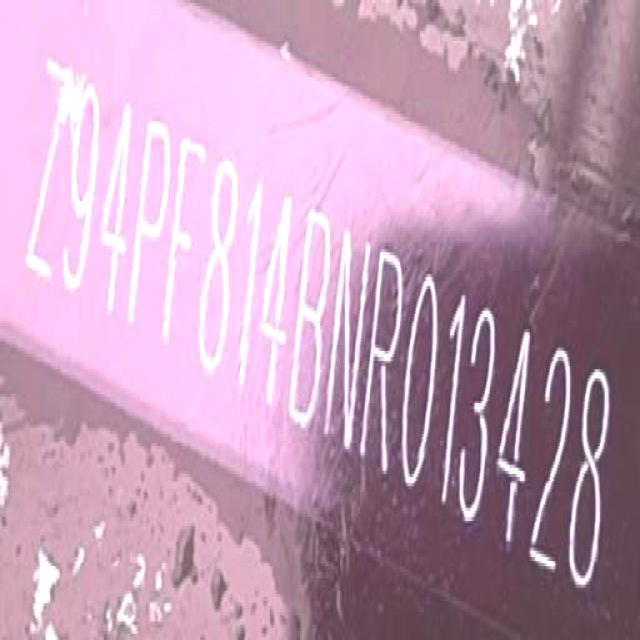0: (394, 259, 447, 508)
1: (432, 281, 471, 517), (230, 166, 266, 398)
2: (523, 332, 581, 583)
3: (450, 291, 508, 536)
4: (485, 317, 541, 565), (247, 182, 300, 423), (90, 89, 142, 334)
8: (561, 354, 617, 607), (193, 145, 245, 387)
9: (56, 60, 110, 313)
B: (284, 197, 339, 440)
F: (157, 126, 210, 365)
N: (320, 214, 376, 462)
P: (123, 108, 177, 350)
R: (357, 240, 411, 487)
Z: (21, 50, 78, 300)
